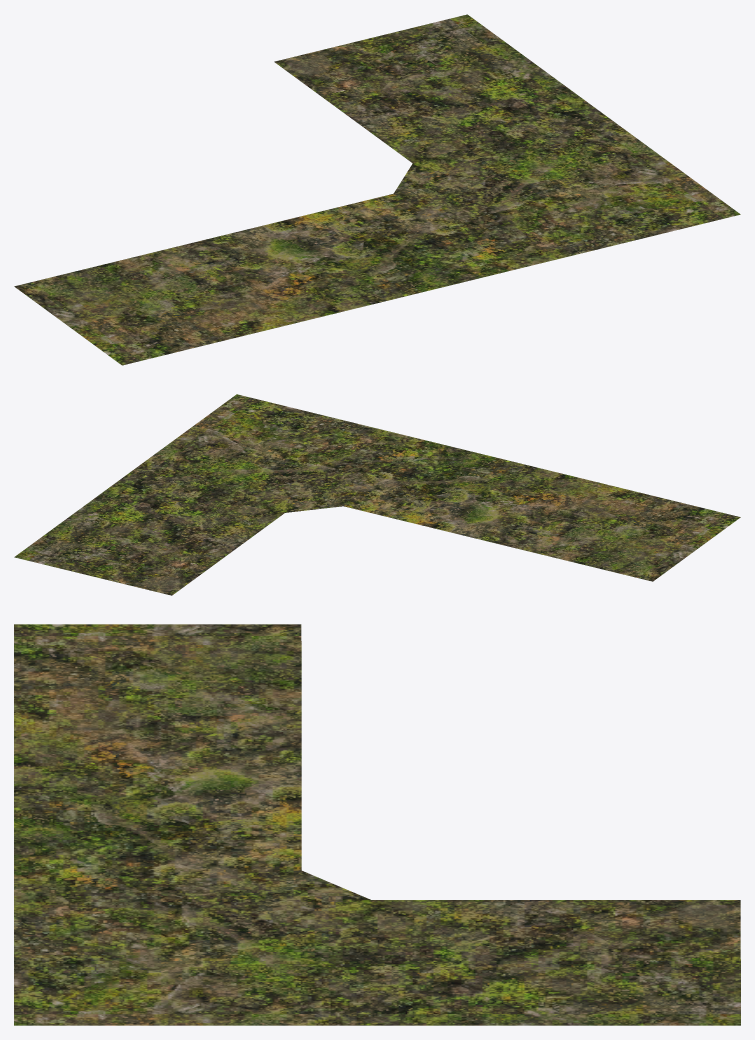
File: Planter_DirtPlane_Lshape01.FBX
The picture shows the model from 3 angles, top to bottom: view 1: azimuth 30°, elevation 25°; view 2: azimuth 150°, elevation 25°; view 3: azimuth 270°, elevation 25°; orthographic projection. The views are drawn at different scales.
Parts seen in each view (by area): view 1: Planter_DirtPlane_Lshape01; view 2: Planter_DirtPlane_Lshape01; view 3: Planter_DirtPlane_Lshape01.
Part boxes in pixels (<box>): Planter_DirtPlane_Lshape01: <box>14,14,740,365</box>; Planter_DirtPlane_Lshape01: <box>14,394,740,595</box>; Planter_DirtPlane_Lshape01: <box>14,624,740,1025</box>.
Bounding box in the file's own units: 4.25 × 9.21e-16 × 3.25.
